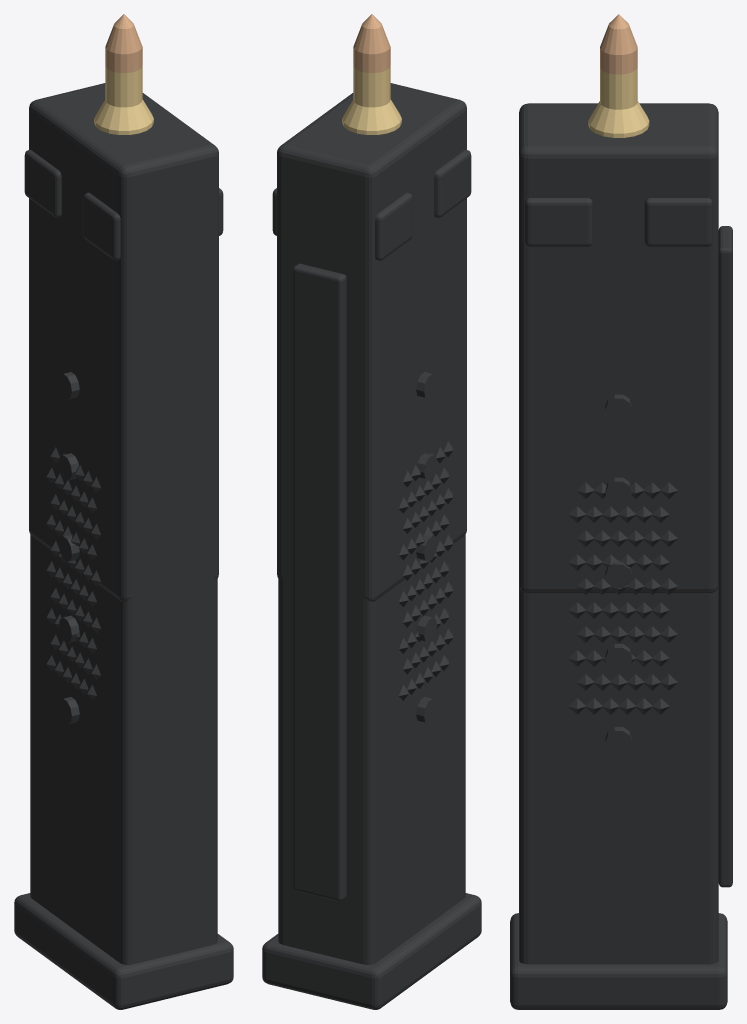
Rendered from mod-service-pistol-magazine-33389.glb.
3 renders of one model, left to right at view 1: azimuth 30°, elevation 25°; view 2: azimuth 150°, elevation 25°; view 3: azimuth 270°, elevation 25°, orthographic. The views are drawn at different scales.
Size of the model in its own units: 1.23 by 9.47 by 1.93.
